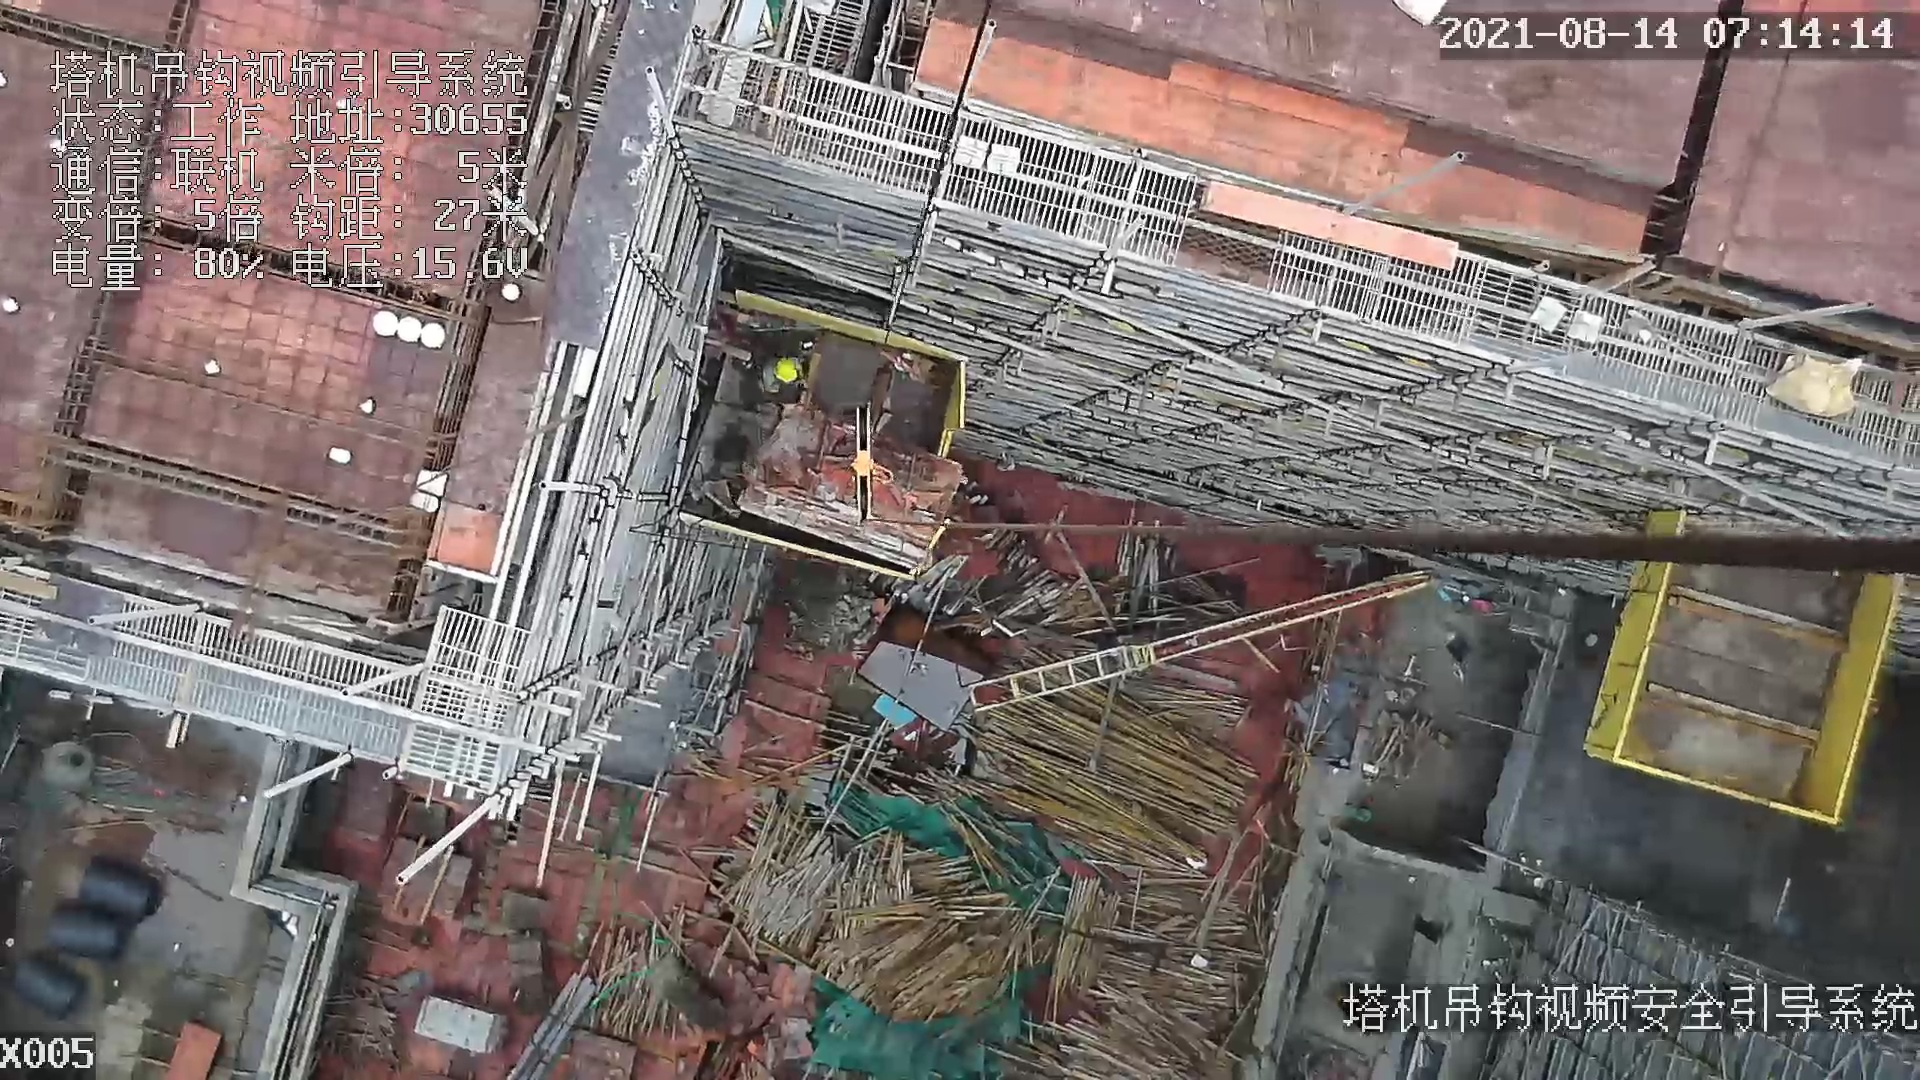helmet: (774, 353, 799, 385)
hook: (851, 400, 895, 527)
person: (737, 332, 801, 399)
